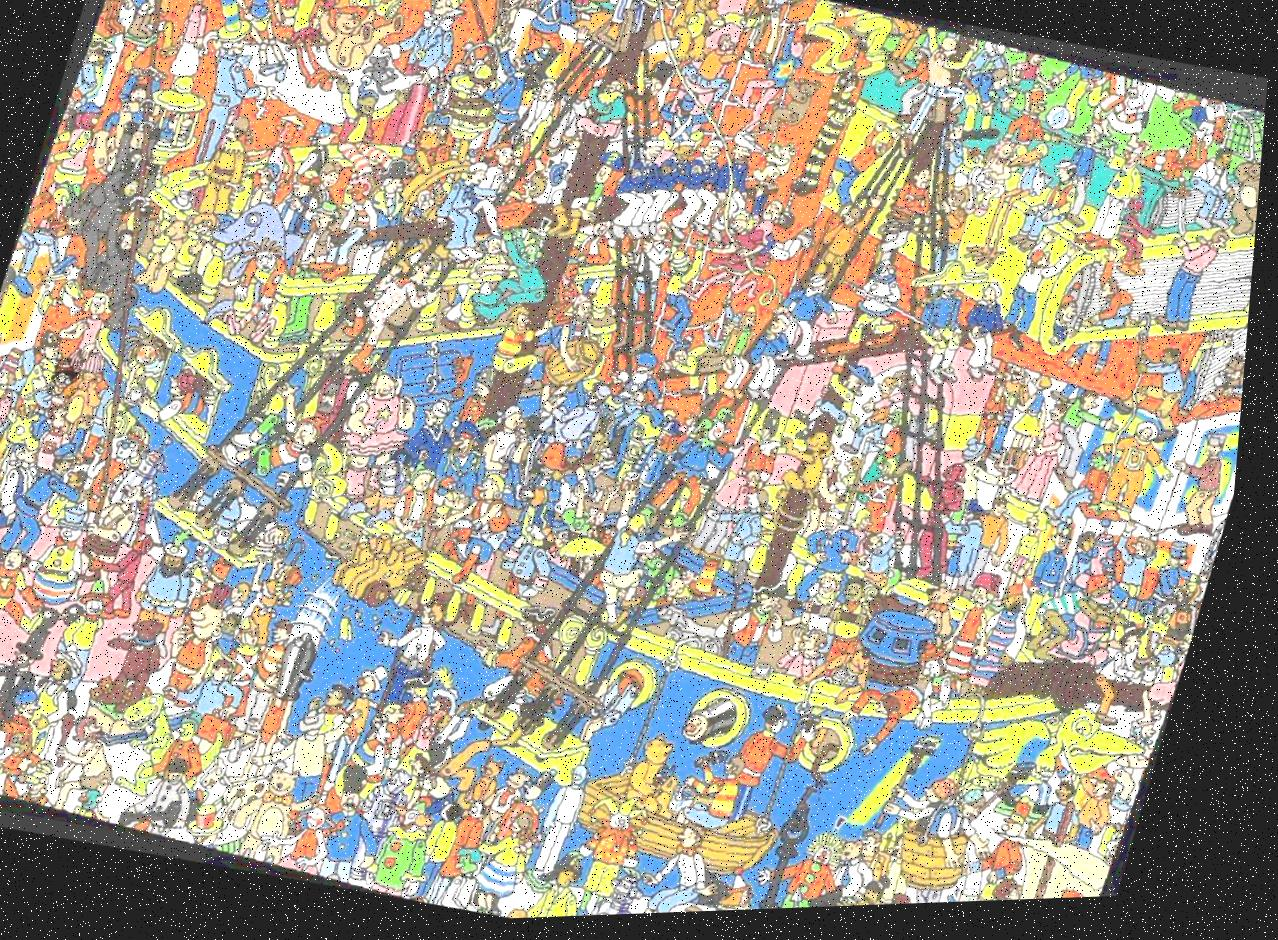waldo: (53, 355, 91, 399)
